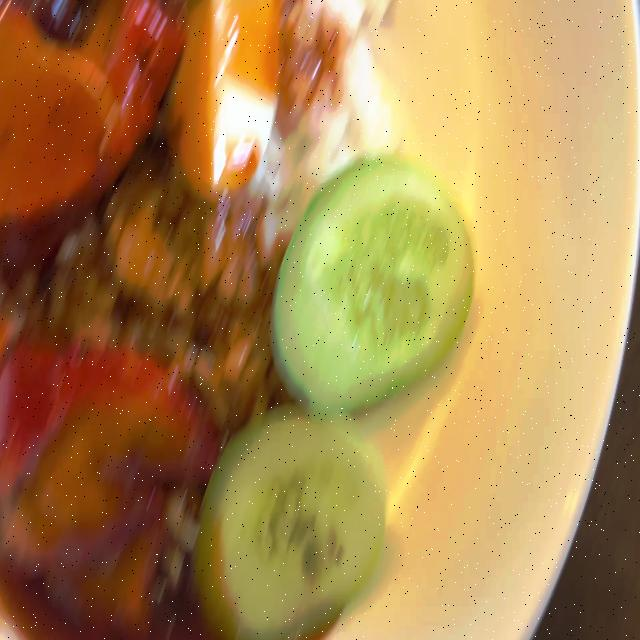boiled_egg: (172, 0, 274, 200)
cucumber: (274, 158, 472, 403), (202, 405, 387, 621)
red_pork: (0, 344, 211, 572), (0, 0, 175, 218)
red_pork_and_crispy_pork: (0, 0, 475, 640)
